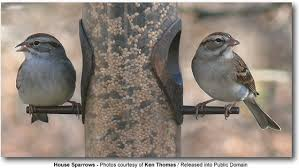hsparrow: (189, 28, 282, 134), (13, 30, 83, 125)
